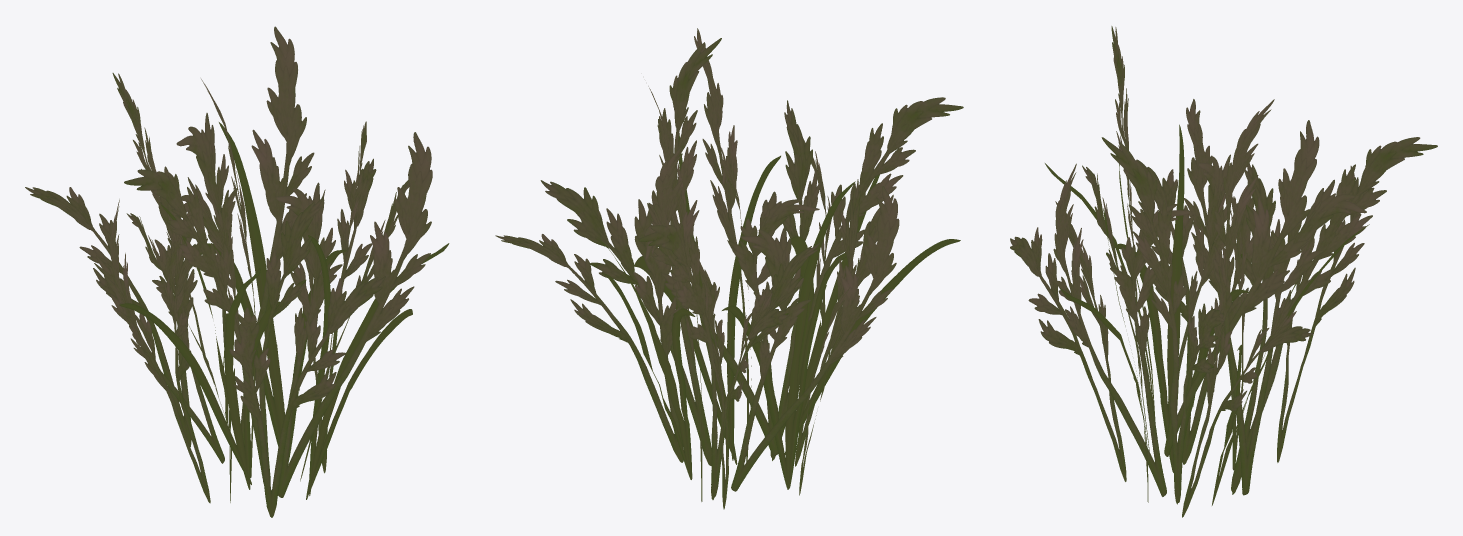
Rendered from MSH_fwOF_Grass_L_2.fbx.
3 views of the same model, side by side, from view 1: azimuth 30°, elevation 25°; view 2: azimuth 150°, elevation 25°; view 3: azimuth 270°, elevation 25° (orthographic). The views are drawn at different scales.
Parts seen in each view (by area): view 1: MSH_fwOF_Grass_L_2; view 2: MSH_fwOF_Grass_L_2; view 3: MSH_fwOF_Grass_L_2.
Part boxes in pixels (box(x1,y1,x2,y2)): MSH_fwOF_Grass_L_2: box(25, 26, 449, 517); MSH_fwOF_Grass_L_2: box(495, 28, 963, 509); MSH_fwOF_Grass_L_2: box(1010, 26, 1437, 517).
Size of the model in its own units: 0.5255 by 0.6028 by 0.5384.
